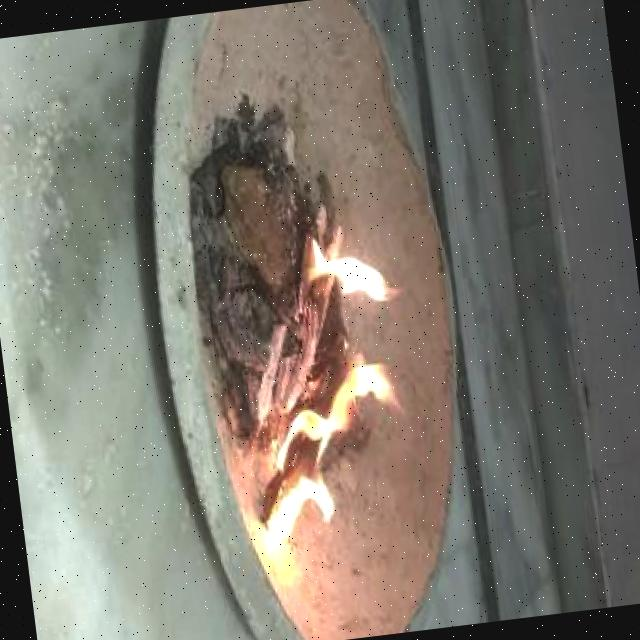fire: (246, 352, 422, 552), (288, 226, 392, 325)
